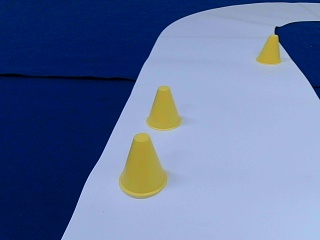cone: (120, 134, 167, 198), (147, 87, 182, 130), (256, 35, 280, 65)
